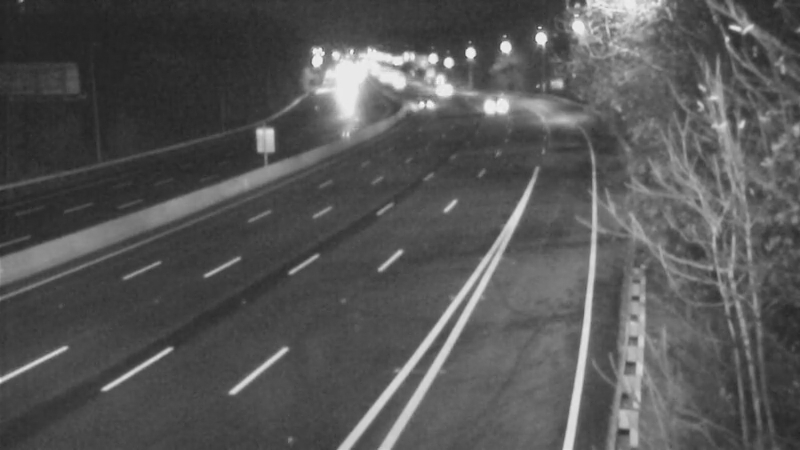vehicle: (413, 62, 463, 112), (399, 83, 449, 133), (459, 76, 509, 126)
